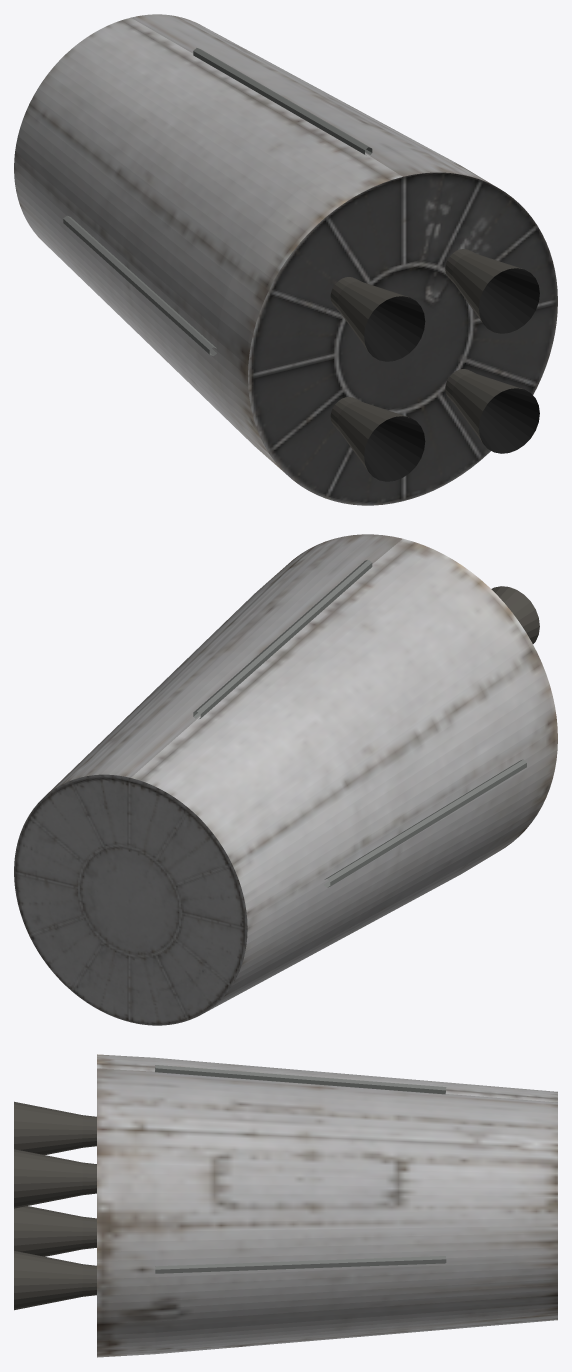
Rendered from block_v.obj.
3 views of the same model, one above another, from view 1: azimuth 30°, elevation 25°; view 2: azimuth 150°, elevation 25°; view 3: azimuth 270°, elevation 25° (orthographic). The views are drawn at different scales.
Visible parts, largest first — view 1: block_v_hull, block_v_aft_cap, block_v_pipes, v_engine_01_interior, v_engine_02_interior, v_engine_03_interior, v_engine_04_interior, v_engine_01, v_engine_02, v_engine_04, v_engine_03; view 2: block_v_hull, block_v_forward_cap, block_v_pipes, v_engine_02; view 3: block_v_hull, block_v_pipes, v_engine_03, v_engine_04, v_engine_02, v_engine_01.
Part boxes in pixels (box(x1,y1,x2,y2)): block_v_hull: box(14, 14, 495, 471); block_v_aft_cap: box(248, 172, 557, 505); block_v_pipes: box(63, 48, 372, 355); v_engine_01_interior: box(364, 416, 425, 481); v_engine_02_interior: box(364, 296, 425, 361); v_engine_03_interior: box(478, 388, 539, 453); v_engine_04_interior: box(478, 268, 539, 333); v_engine_01: box(330, 397, 408, 470); v_engine_02: box(330, 277, 408, 350); v_engine_04: box(445, 249, 521, 322); v_engine_03: box(445, 369, 521, 442); block_v_hull: box(45, 534, 557, 1012); block_v_forward_cap: box(14, 774, 247, 1025); block_v_pipes: box(193, 559, 526, 887); v_engine_02: box(491, 586, 539, 643); block_v_hull: box(97, 1054, 557, 1357); block_v_pipes: box(155, 1065, 446, 1273); v_engine_03: box(14, 1250, 96, 1310); v_engine_04: box(14, 1149, 96, 1208); v_engine_02: box(14, 1101, 96, 1154); v_engine_01: box(14, 1206, 96, 1256).
Size of the model in its own units: 7.47 by 7.5 by 13.1.
4 materials, 1 textured.
